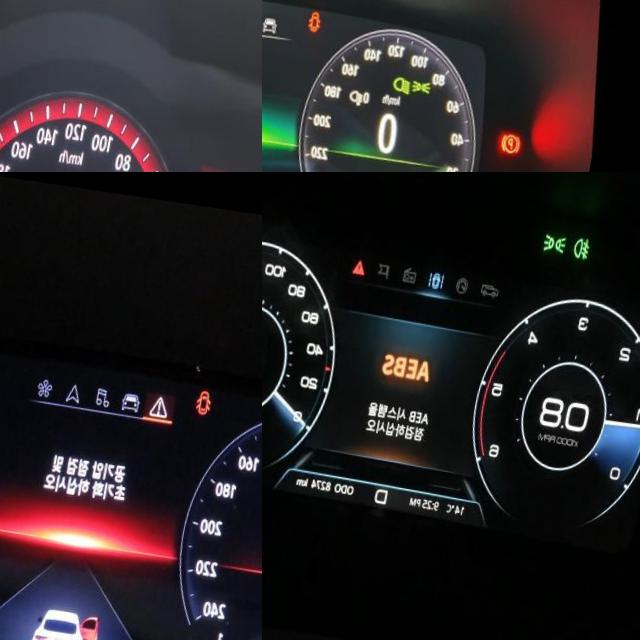Doors: (203, 376, 221, 402), (315, 0, 333, 22)
FrontFogLight: (578, 222, 596, 246)
Low beam: (402, 60, 424, 84)
SideLamp: (549, 220, 573, 240), (422, 63, 445, 81)
